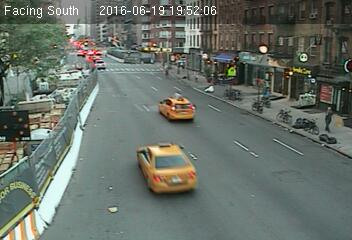neg: (223, 81, 237, 100), (208, 58, 219, 73), (228, 63, 237, 76), (242, 63, 251, 76)
pos: (317, 102, 339, 132), (260, 85, 276, 107), (162, 66, 172, 79)
